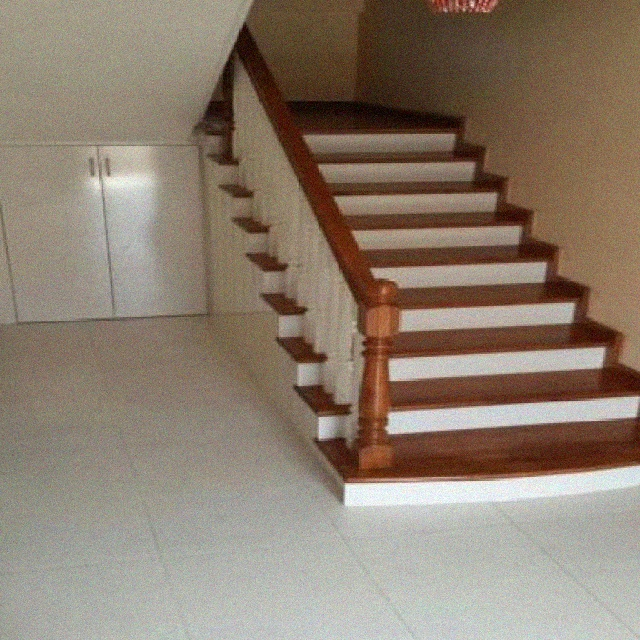stair: (171, 43, 640, 502)
